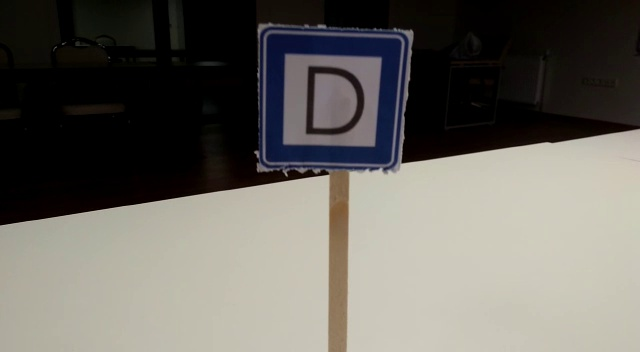durak: (259, 30, 409, 168)
